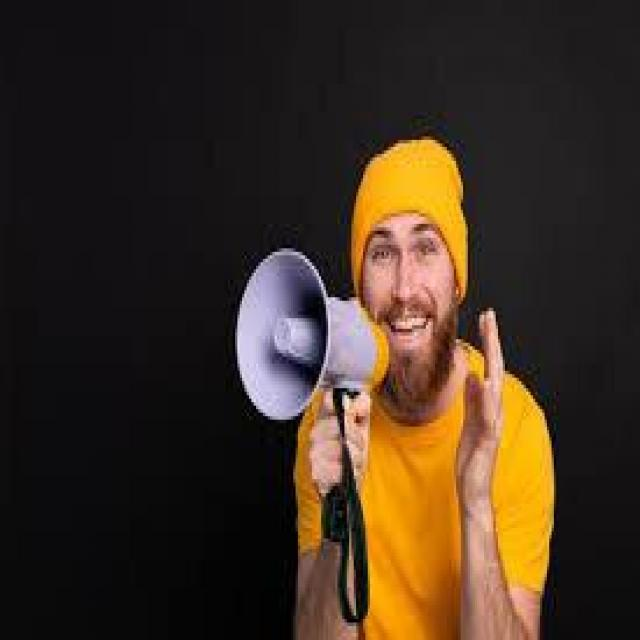person: (221, 126, 561, 622)
